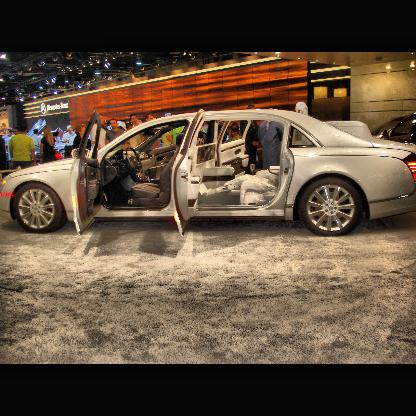Maybach Landaulet Convertible 2012: (6, 103, 416, 237)
